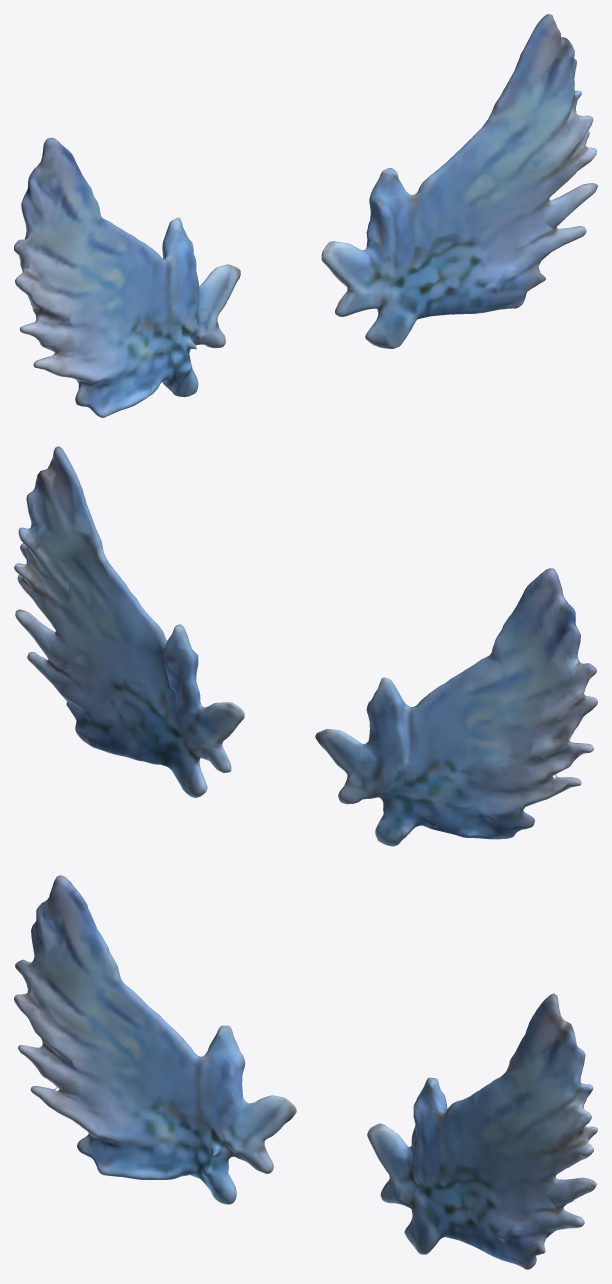
The model's file is wings.glb.
3 renders of one model, top to bottom at view 1: azimuth 30°, elevation 25°; view 2: azimuth 150°, elevation 25°; view 3: azimuth 330°, elevation 25°, orthographic.
Visible parts, largest first — view 1: high_poly; view 2: high_poly; view 3: high_poly.
Boxes of the visible parts, x1,y1,x2,y2 form: high_poly: (14,14,597,417); high_poly: (14,446,597,846); high_poly: (14,875,597,1269).
Bounding box in the file's own units: 1 × 0.5021 × 0.1042.
Materials: 1 (1 with a texture image).
